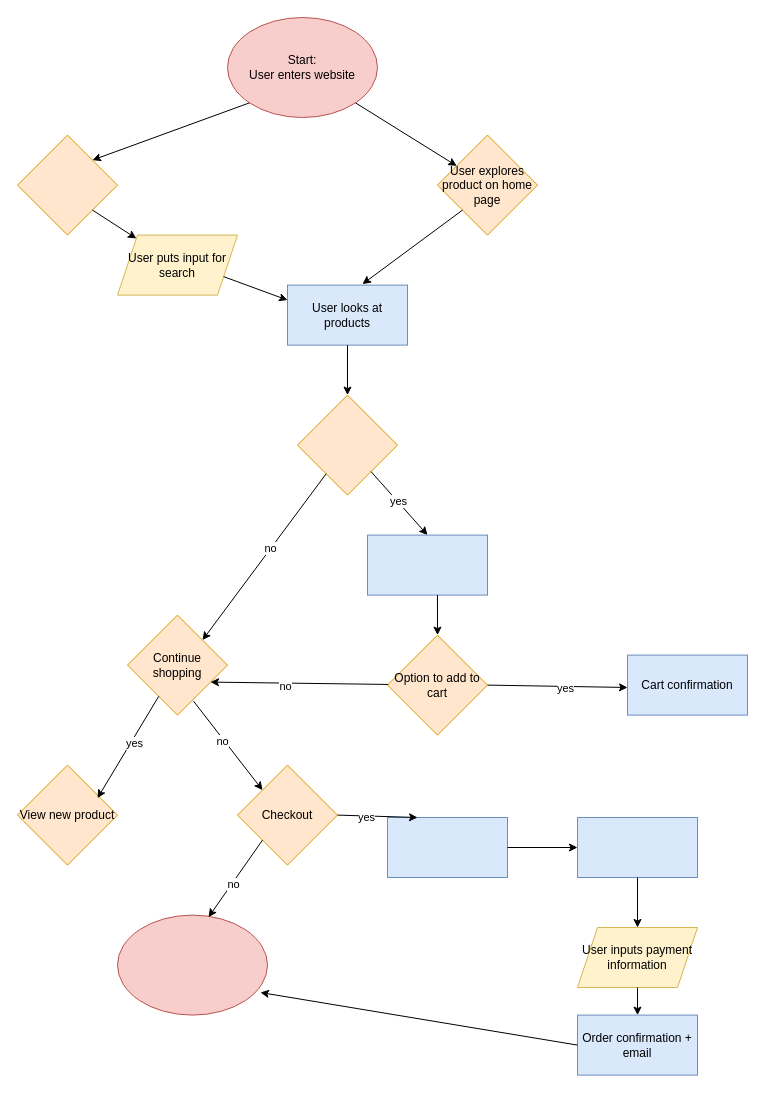
Some shapes in this 765 by 1093 pixel diagram are drawn without their labels. Here are the shapes that lost their labels. From the top down, the centre of each, then its label:
(x=67, y=184): User searches for a product
(x=347, y=444): User can choose to view specific product
(x=427, y=564): Item's webpage opens
(x=447, y=847): View cart
(x=637, y=847): View payment
(x=192, y=964): End: Leave website
